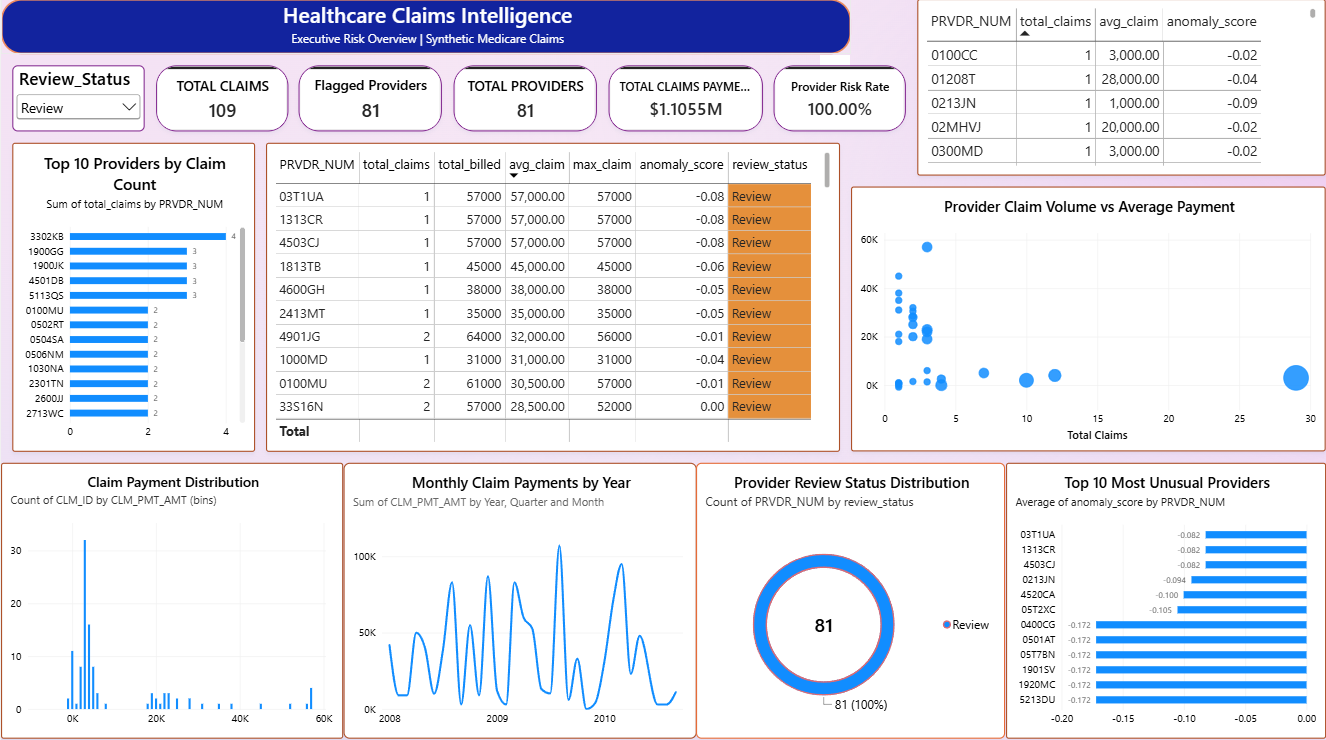

What the dashboard file says about the page in this screenshot:
{"tool":"powerbi","page":{"name":"All charts","canvas":[1920,1080],"ordinal":3},"visuals":[{"type":"textbox","title":"Healthcare Claims Intelligence ","box":[0,0,1232,80],"z":0},{"type":"slicer","fields":{"Values":["ProviderRisk.review_status"]},"box":[16,96,192,96],"z":1},{"type":"cardVisual","title":"Total Claims","fields":{"Data":["Claims.Total Claims"]},"box":[224,96,192,96],"z":2},{"type":"cardVisual","title":"Total Claims","fields":{"Data":["Claims.Flagged Providers"]},"box":[432,96,208,96],"z":3},{"type":"cardVisual","title":"Total Claims","fields":{"Data":["Claims.Total Providers"]},"box":[656,96,208,96],"z":4},{"type":"cardVisual","title":"Total Claims","fields":{"Data":["Claims.Total Claim Payments"]},"box":[880,96,224,96],"z":5},{"type":"clusteredBarChart","title":"Top 10 Providers by Claim Count","fields":{"Category":["ProviderRisk.PRVDR_NUM"],"Y":["Sum(ProviderRisk.total_claims)"]},"box":[16,208,352,448],"z":6},{"type":"tableEx","fields":{"Values":["ProviderRisk.PRVDR_NUM","ProviderRisk.total_claims","ProviderRisk.total_billed","ProviderRisk.avg_claim","ProviderRisk.max_claim","ProviderRisk.anomaly_score","ProviderRisk.review_status"]},"box":[384,208,832,448],"z":7},{"type":"scatterChart","title":"Provider Claim Volume vs Average Payment","fields":{"Size":["CountNonNull(ProviderRisk.PRVDR_NUM)"],"X":["Claims.Total Claims"],"Y":["ProviderRisk.avg_claim"]},"box":[1232,272,688,384],"z":8},{"type":"tableEx","fields":{"Values":["ProviderRisk.PRVDR_NUM","ProviderRisk.total_claims","ProviderRisk.avg_claim","ProviderRisk.anomaly_score"]},"box":[1328,0,592,256],"z":9},{"type":"clusteredColumnChart","title":"Claim Payment Distribution","fields":{"Category":["Claims.CLM_PMT_AMT (bins)"],"Y":["CountNonNull(Claims.CLM_ID)"]},"box":[0,672,496,400],"z":10},{"type":"lineChart","title":"Monthly Claim Payments by Year","fields":{"Category":["Claims.ClaimDate.Variation.Date Hierarchy.Year","Claims.ClaimDate.Variation.Date Hierarchy.Quarter","Claims.ClaimDate.Variation.Date Hierarchy.Month"],"Y":["Sum(Claims.CLM_PMT_AMT)"]},"box":[496,672,512,400],"z":11},{"type":"clusteredBarChart","title":"Top 10 Most Unusual Providers","fields":{"Category":["ProviderRisk.PRVDR_NUM"],"Y":["Avg(ProviderRisk.anomaly_score)"]},"box":[1456,672,464,400],"z":12},{"type":"cardVisual","title":"Total Claims","fields":{"Data":["Claims.Provider Risk Rate"]},"box":[1120,96,192,96],"z":13},{"type":"donutChart","title":"Provider Review Status Distribution","fields":{"Category":["ProviderRisk.review_status"],"Y":["CountNonNull(ProviderRisk.PRVDR_NUM)"]},"box":[1008,672,448,400],"z":14}]}

Visuals, with their boxes in screenshot pixels (x1, y1, x2, y2), scaled from the page's 1920x1080 canvas onto the 1326x740 screenshot:
"Healthcare Claims Intelligence " textbox: x1=0, y1=0, x2=851, y2=55
slicer - ProviderRisk.review_status: x1=11, y1=66, x2=144, y2=132
"Total Claims" cardVisual: x1=155, y1=66, x2=287, y2=132
"Total Claims" cardVisual: x1=298, y1=66, x2=442, y2=132
"Total Claims" cardVisual: x1=453, y1=66, x2=597, y2=132
"Total Claims" cardVisual: x1=608, y1=66, x2=762, y2=132
"Top 10 Providers by Claim Count" clusteredBarChart: x1=11, y1=143, x2=254, y2=449
tableEx - ProviderRisk.PRVDR_NUM x ProviderRisk.total_claims: x1=265, y1=143, x2=840, y2=449
"Provider Claim Volume vs Average Payment" scatterChart: x1=851, y1=186, x2=1325, y2=449
tableEx - ProviderRisk.PRVDR_NUM x ProviderRisk.total_claims: x1=917, y1=0, x2=1325, y2=175
"Claim Payment Distribution" clusteredColumnChart: x1=0, y1=460, x2=343, y2=735
"Monthly Claim Payments by Year" lineChart: x1=343, y1=460, x2=696, y2=735
"Top 10 Most Unusual Providers" clusteredBarChart: x1=1006, y1=460, x2=1325, y2=735
"Total Claims" cardVisual: x1=774, y1=66, x2=906, y2=132
"Provider Review Status Distribution" donutChart: x1=696, y1=460, x2=1006, y2=735
